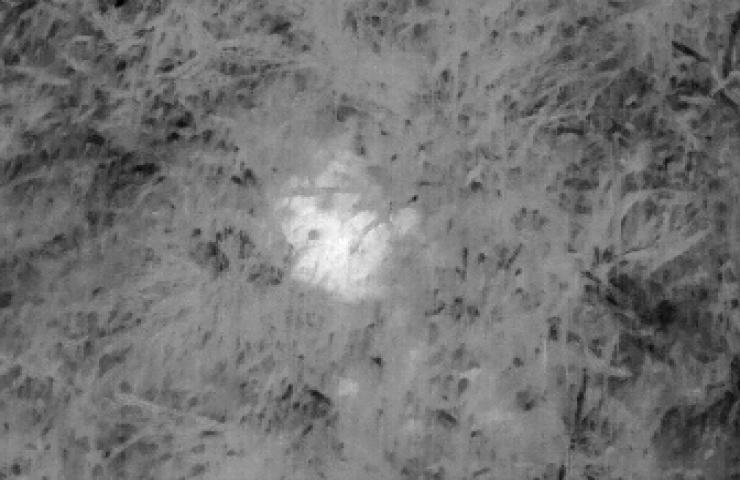landmines: (279, 199, 385, 288)
